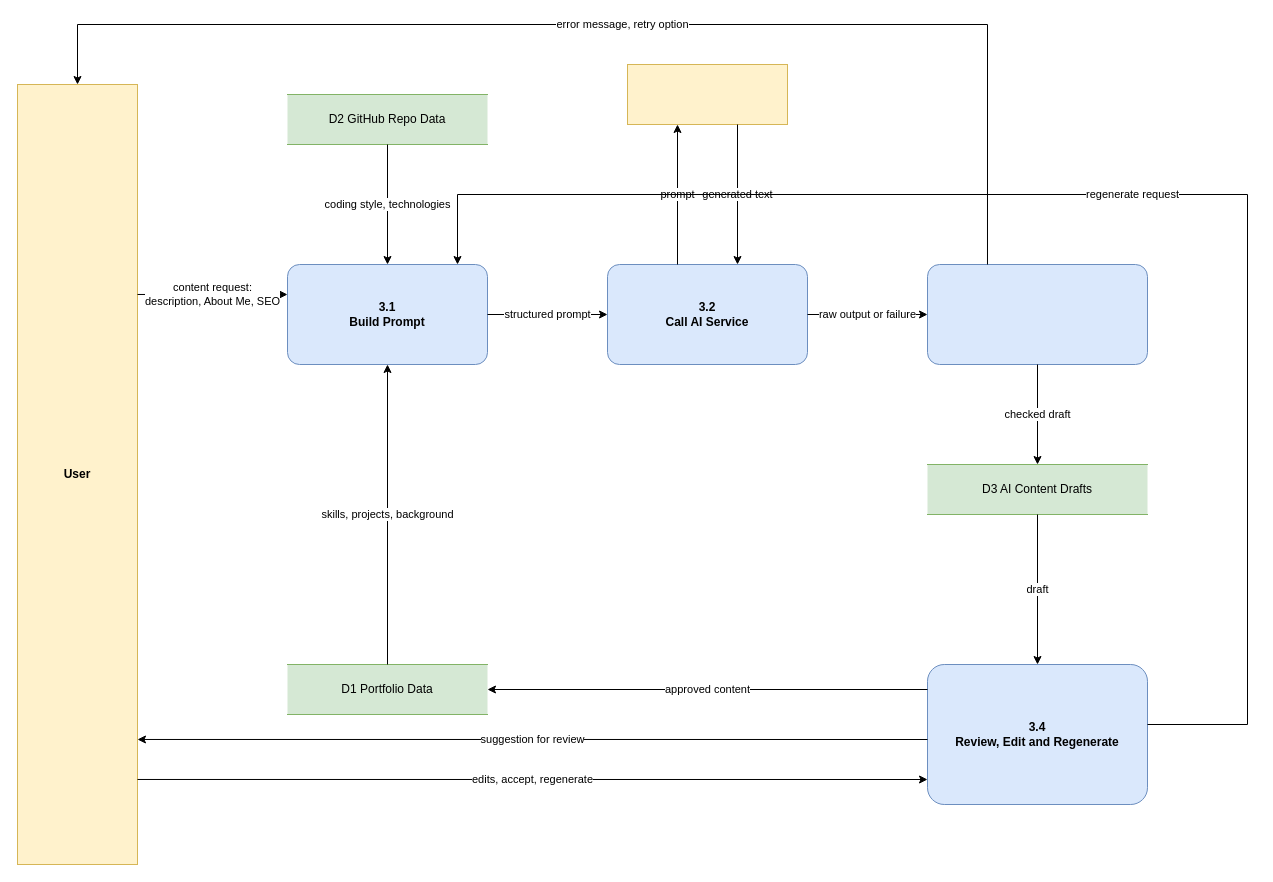
Some shapes in this 1273 by 882 pixel diagram are drawn without their labels. Each missing label, with the centre of its shape:
"3.3 Check Relevance and Accuracy" belongs at point (1037, 314).
"AI Service" belongs at point (707, 94).
